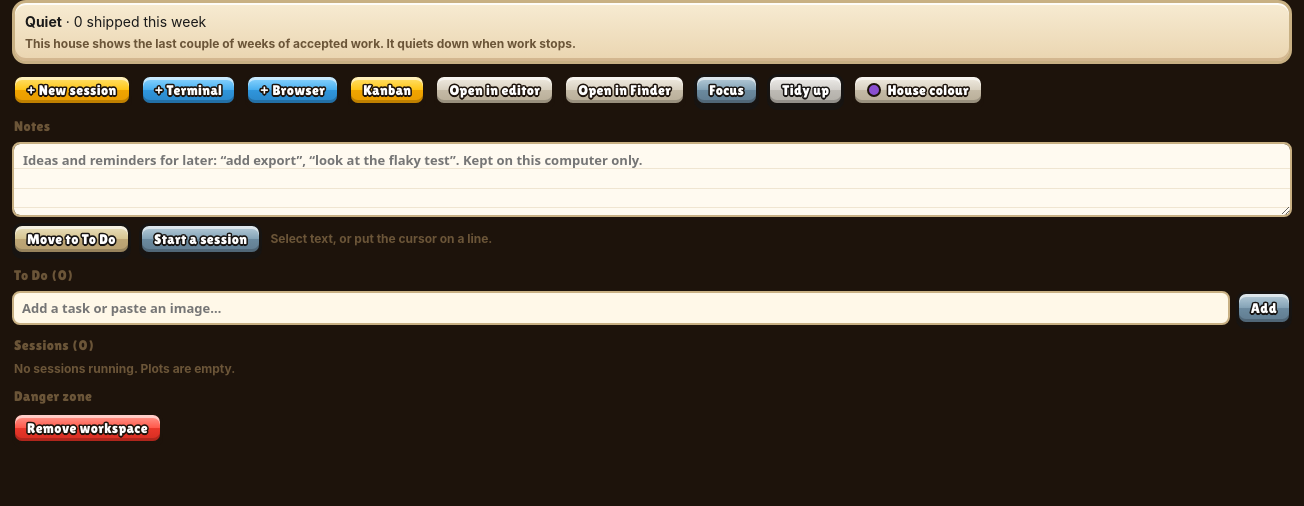
remove_workspace_confirms_inline
Later steps or results of the test are not shown.
What coordinates should you click on to do the following:
click the button "Remove workspace"
I would click on:
 (87, 428)
Its box is 12,412 -> 163,444.
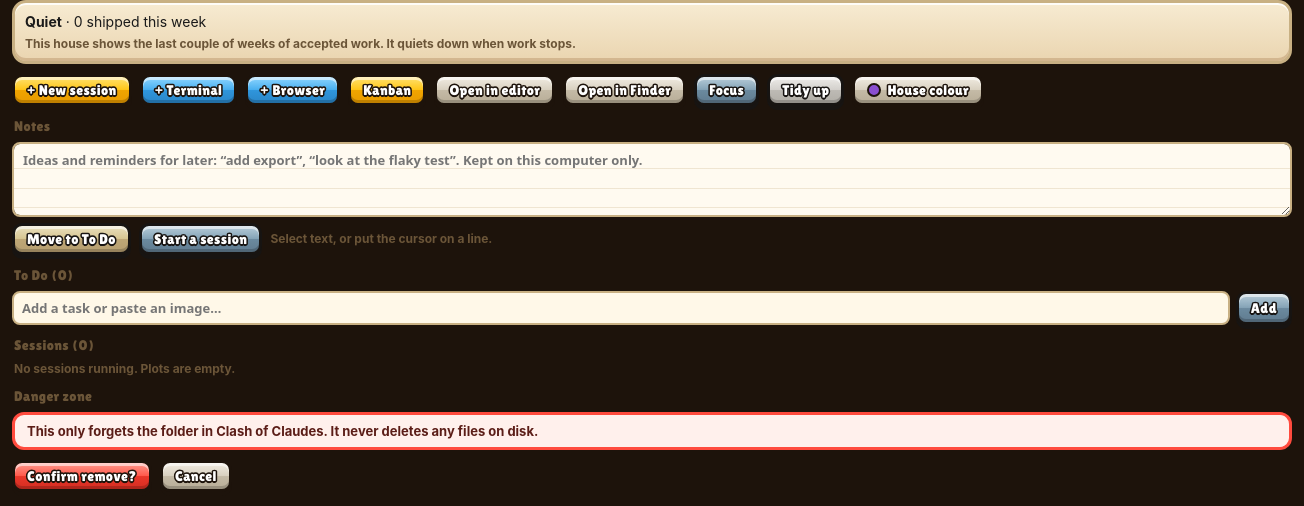
Expected: the text "never deletes any files" is shown, 27,422 -> 538,438
